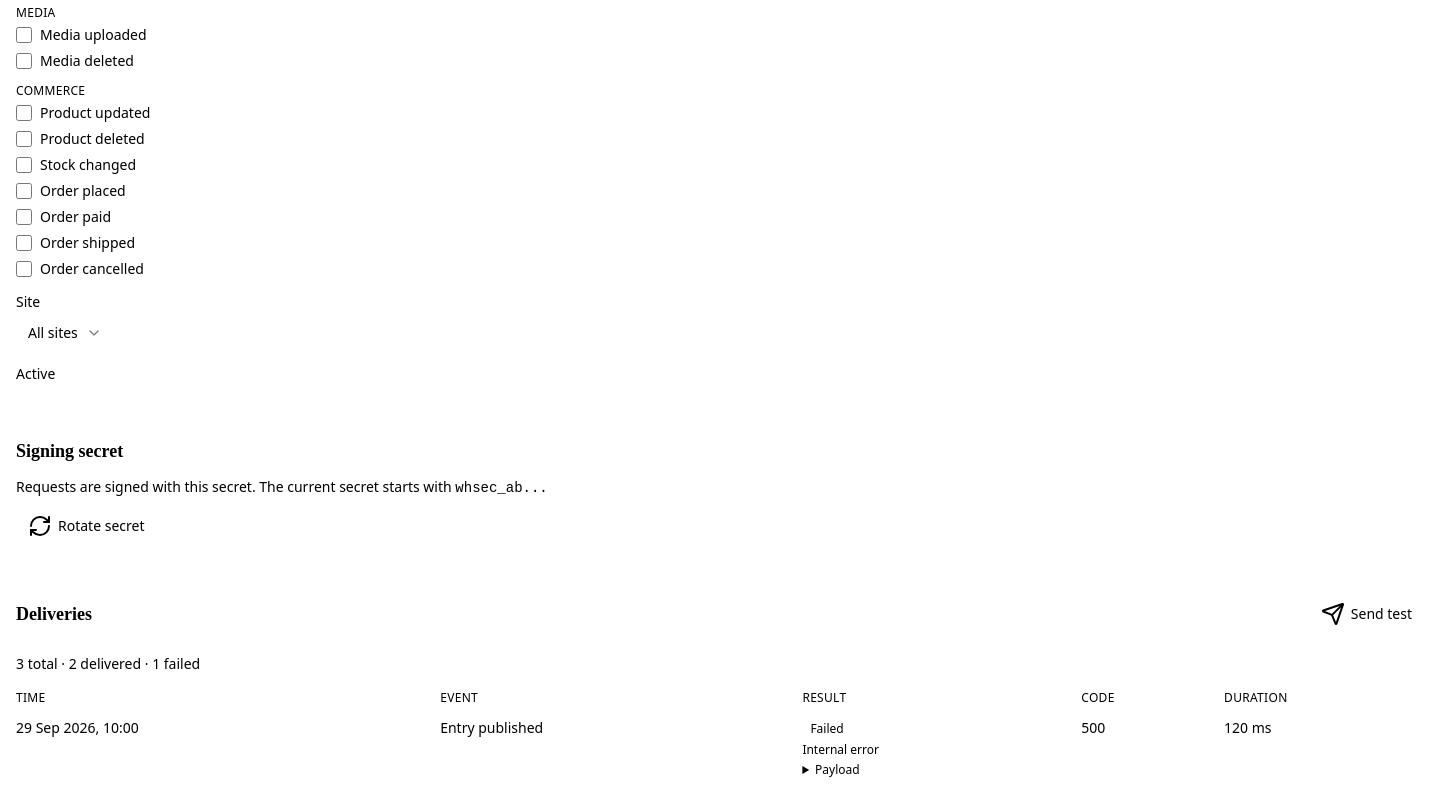
Test case: sends a test and shows the delivery log
The image size is (1440, 802).
(page scrolled)
What coordinates should you click on to do the following:
click the button "Send test"
I would click on:
 (1366, 614)
Its box is [1309,598,1424,630].
(page scrolled)
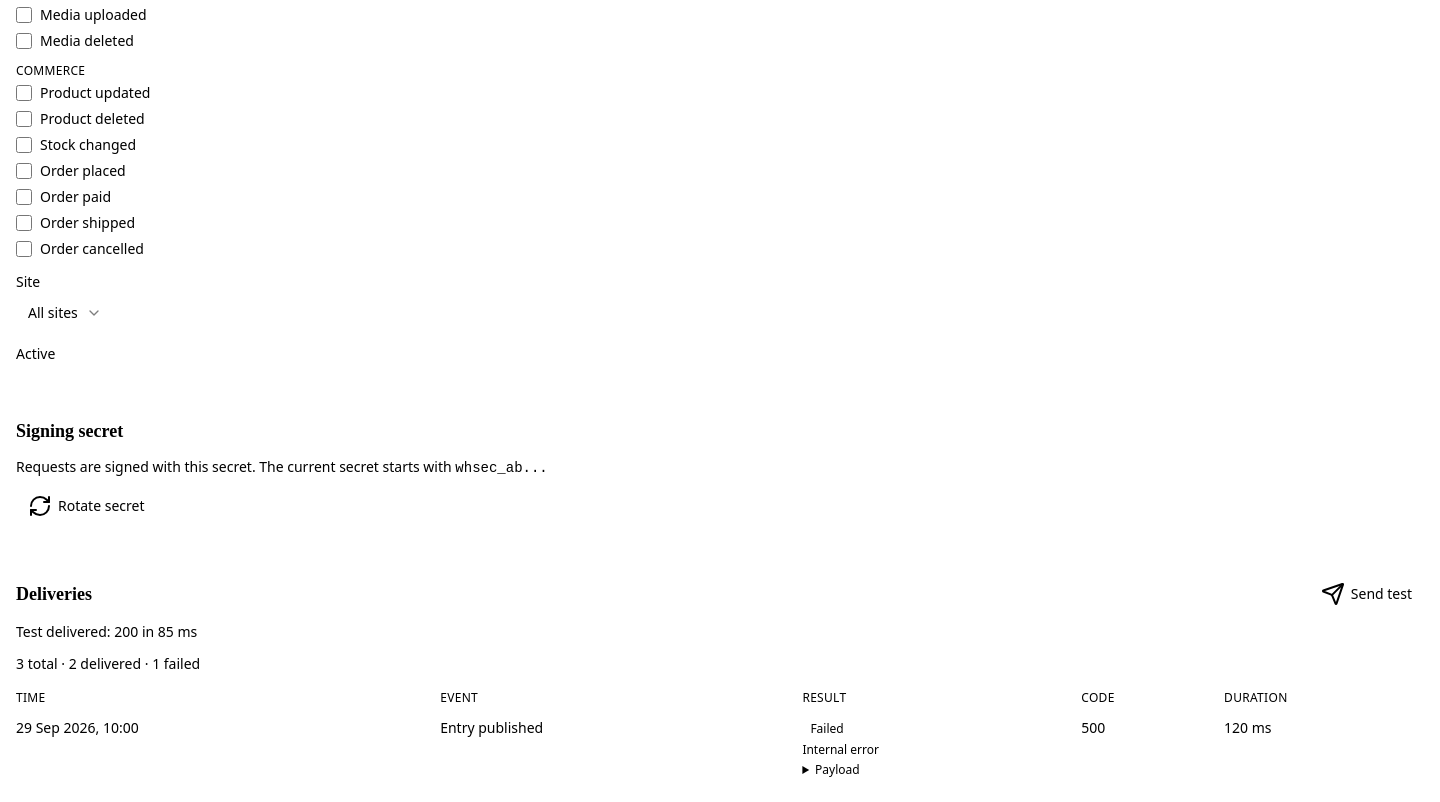
Expected: the text "Entry published" is shown, [440,710,802,786]
Now the text "Test delivered: 200 in 85 ms" is shown, box [16,622,197,641]
